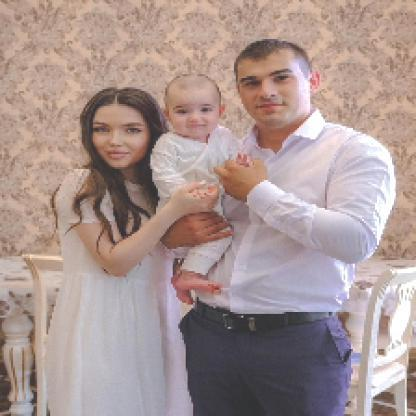child: (151, 74, 240, 308)
